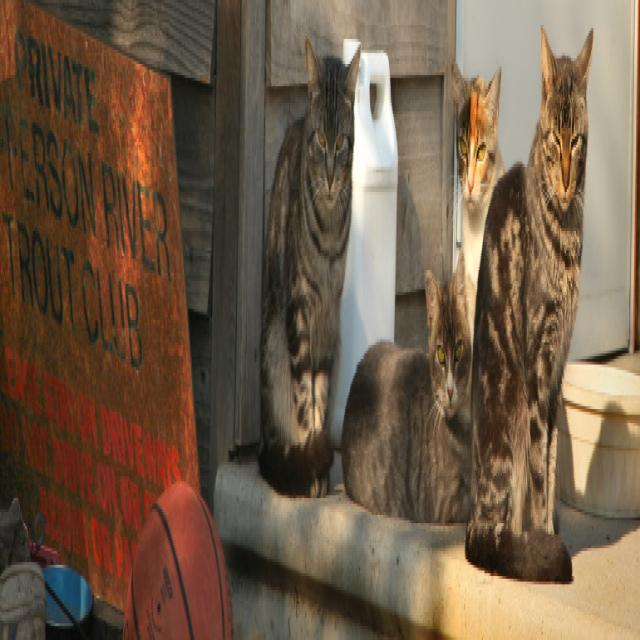cat: (466, 29, 594, 580), (259, 38, 359, 496), (341, 251, 472, 523), (451, 63, 504, 341)
